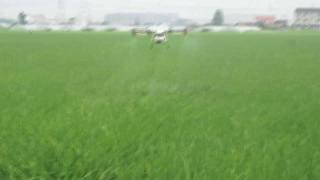UAV: (131, 27, 191, 50)
